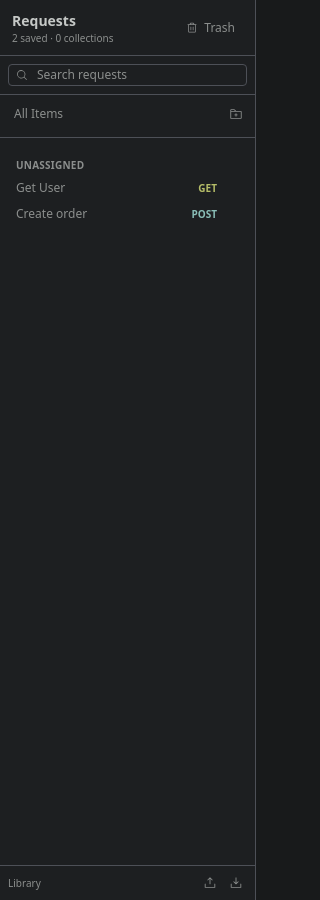
it: ApiClient › filters saved requests by name, URL, and method
Type "order" into the search field named "Search saved requests" at (128, 75), box 8,64 -> 247,86
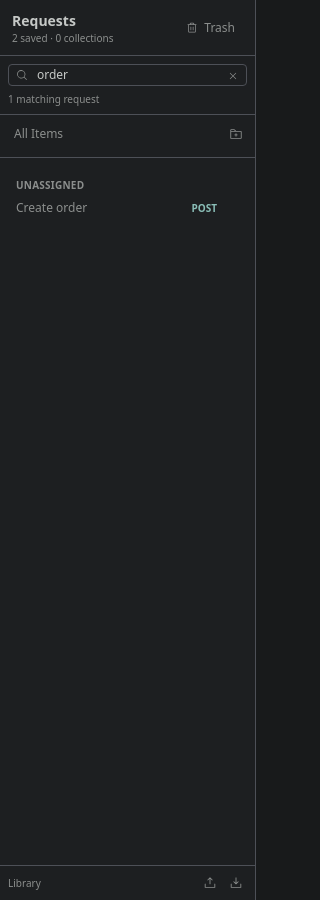
Expected: the button "Create order POST" is shown, 8,196 -> 225,220
Result: the button "Get User" is gone
Result: the text "1 matching request" is shown at 8,92 -> 99,106
Replace the text in the search field named "Search saved requests" with "zzz" at (128, 75), box 8,64 -> 247,86
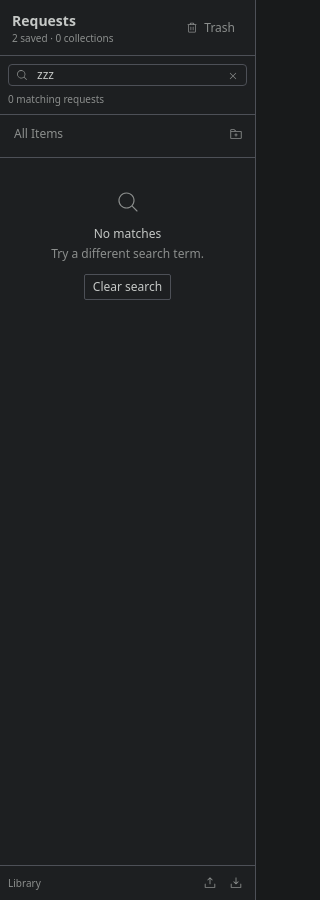
Result: the text "No matches" is shown at 94,225 -> 161,242
